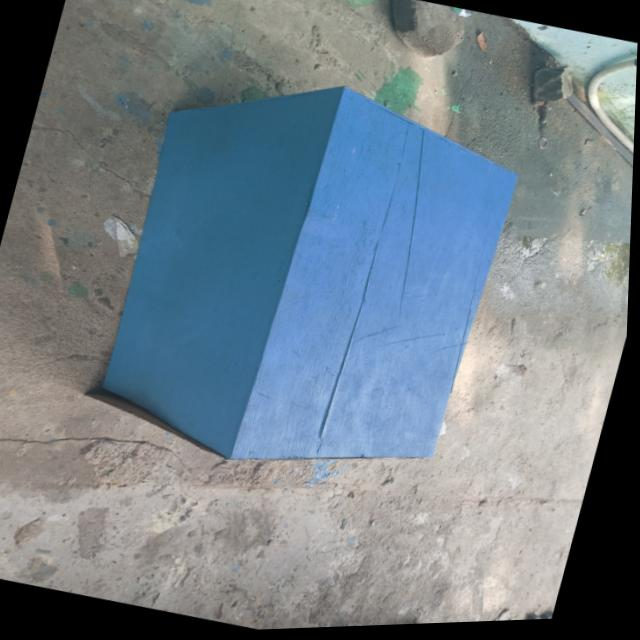blue_box: (71, 42, 541, 512)
